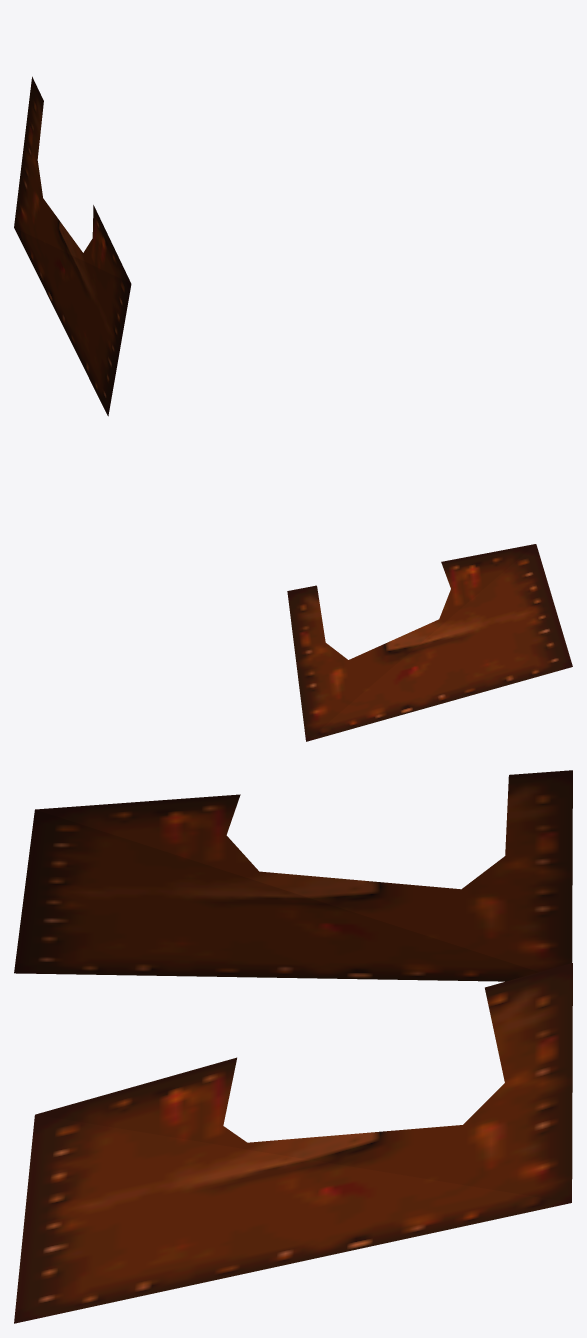
File: Schiff_Bug4_1250.glb
3 renders of one model, top to bottom at view 1: azimuth 30°, elevation 25°; view 2: azimuth 150°, elevation 25°; view 3: azimuth 270°, elevation 25°, orthographic. The views are drawn at different scales.
Parts seen in each view (by area): view 1: pPlaneShape13; view 2: pPlaneShape13; view 3: pPlaneShape34, pPlaneShape13.
Boxes of the visible parts, x1,y1,x2,y2 form: pPlaneShape13: [14, 76, 131, 416]; pPlaneShape13: [287, 544, 572, 741]; pPlaneShape34: [14, 962, 572, 1323]; pPlaneShape13: [14, 770, 572, 981].
Bounding box in the file's own units: 1.99 × 0.7492 × 1.34.
2 materials, 2 textured.
